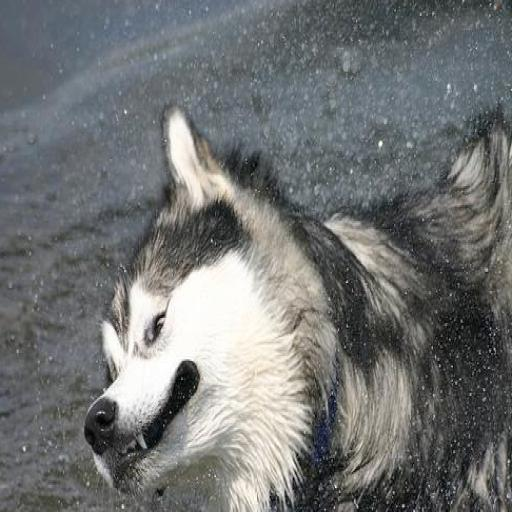dog_face: (89, 112, 303, 507)
